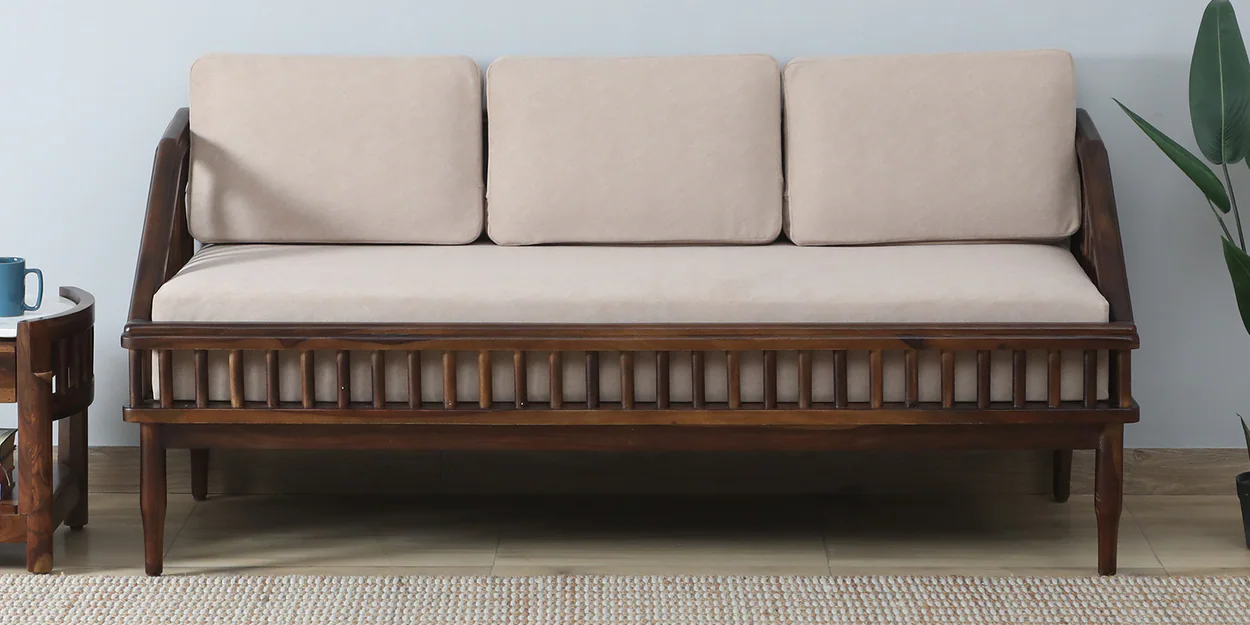3seatersofa: (121, 51, 1138, 574)
backrest: (186, 52, 1079, 245)
base: (123, 321, 1136, 428)
leftarmrest: (1073, 109, 1130, 321)
leg: (139, 422, 1123, 574)
rightarmrest: (130, 108, 189, 320)
seat: (152, 243, 1108, 321)
